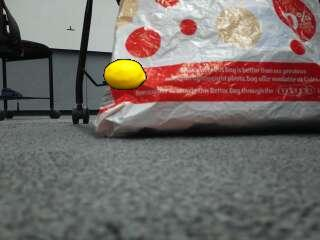lemon: (106, 60, 146, 89)
